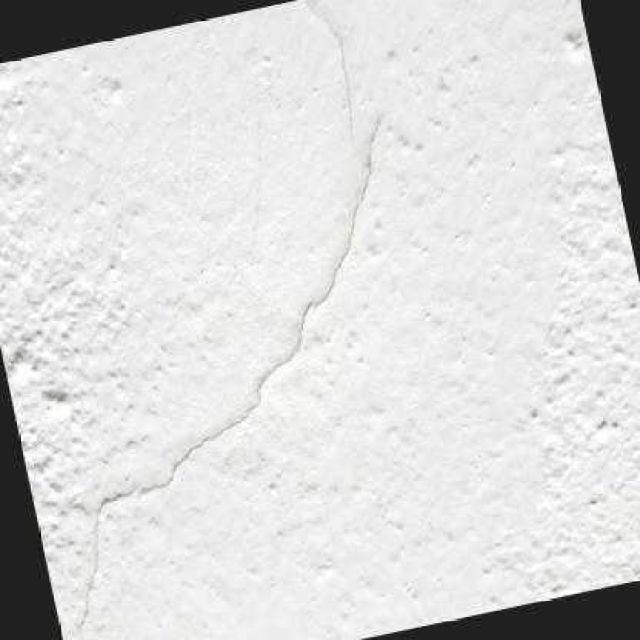D00: (73, 0, 381, 640)
